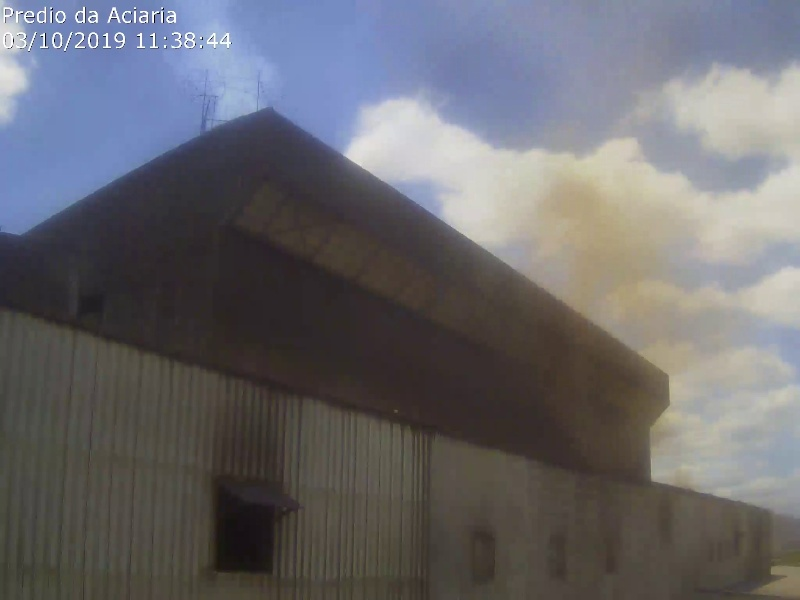bom: (1, 4, 294, 183)
pessimo: (494, 32, 773, 463)
